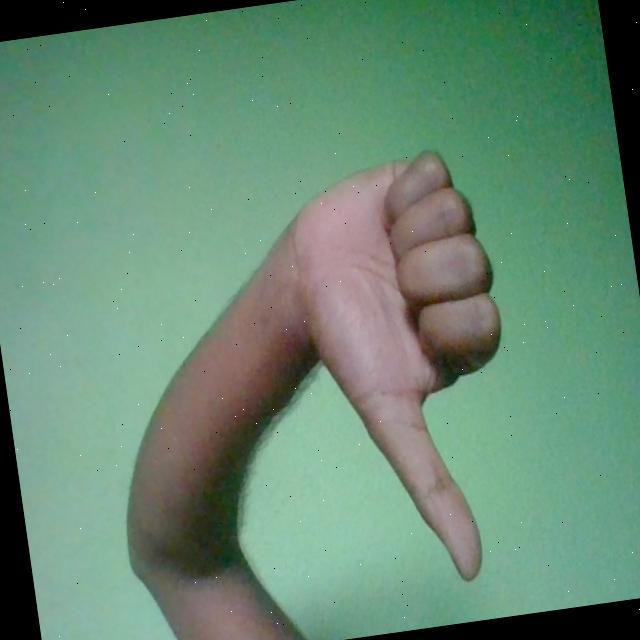Dislike: (272, 140, 534, 600)
